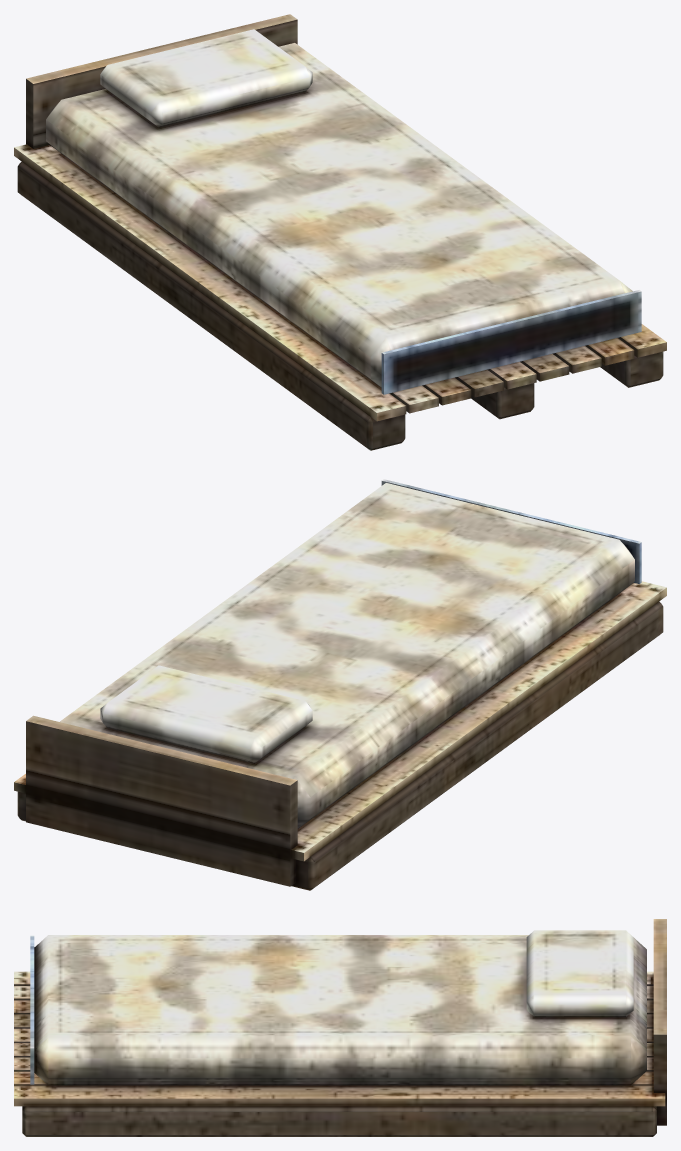
The model's file is colchao_base.glb.
3 views of the same model, one above another, from view 1: azimuth 30°, elevation 25°; view 2: azimuth 150°, elevation 25°; view 3: azimuth 270°, elevation 25° (orthographic). The views are drawn at different scales.
Visible parts, largest first — view 1: colchao_base; view 2: colchao_base; view 3: colchao_base.
Part boxes in pixels (x1,y1,x2,y2): colchao_base: (14,14,666,450); colchao_base: (14,479,666,890); colchao_base: (14,919,666,1136).
Bounding box in the file's own units: 0.92 × 0.3675 × 1.95.
1 material, 1 textured.
